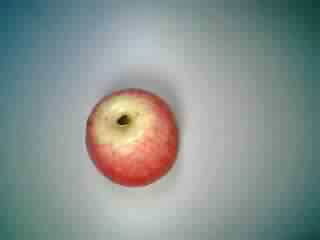apple: (79, 88, 183, 188)
